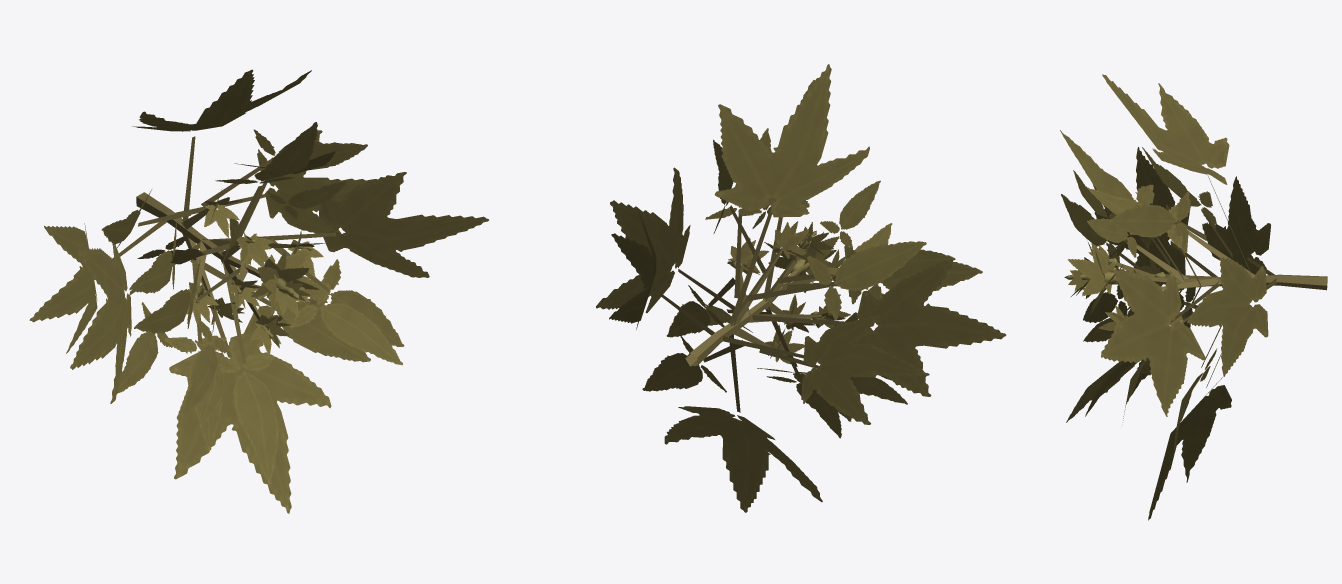
File: p_auto_preflower_c2_cards.obj
3 renders of one model, left to right at view 1: azimuth 30°, elevation 25°; view 2: azimuth 150°, elevation 25°; view 3: azimuth 270°, elevation 25°, orthographic. The views are drawn at different scales.
Bounding box in the file's own units: 1.34 × 1.4 × 0.72.
1 material, 1 textured.
